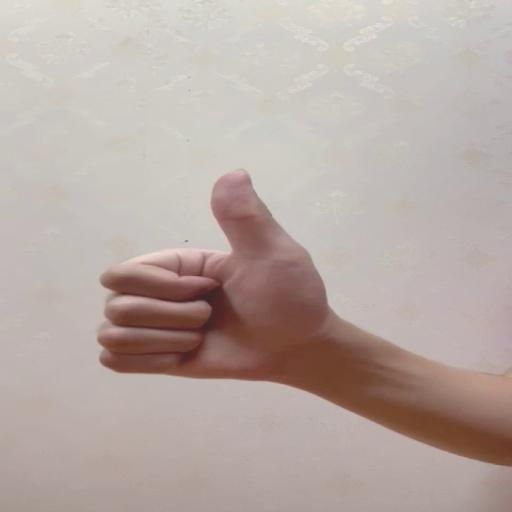thumbs_up: (94, 167, 327, 379)
